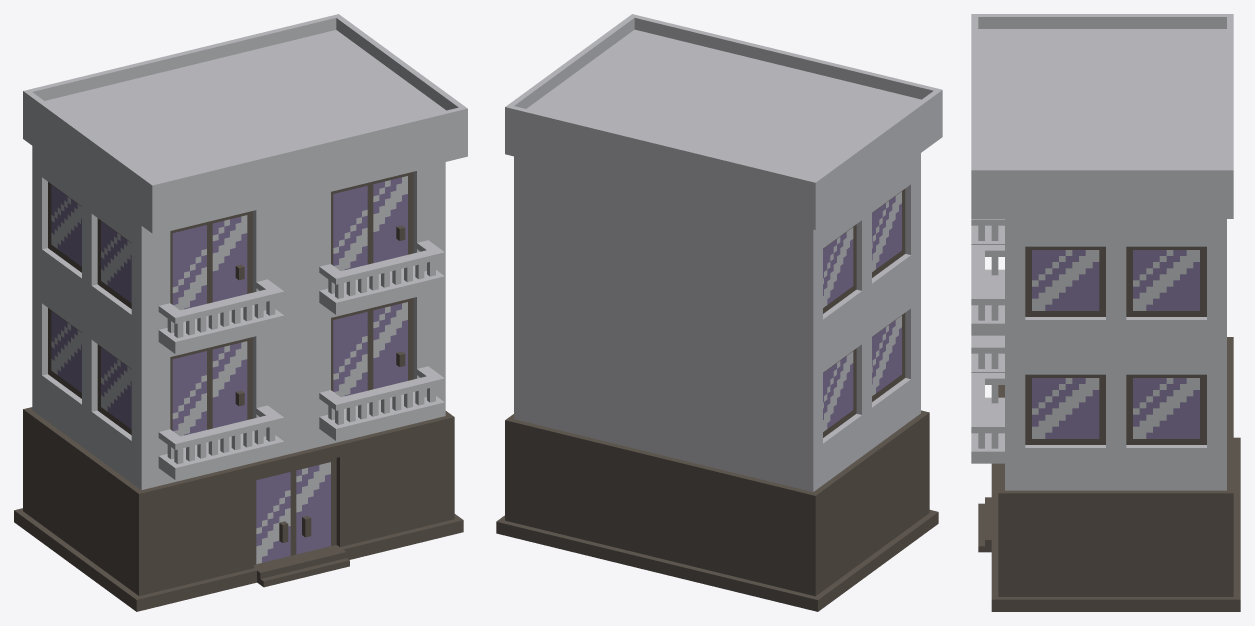
The model's file is apartment_a.obj.
3 views of the same model, side by side, from view 1: azimuth 30°, elevation 25°; view 2: azimuth 150°, elevation 25°; view 3: azimuth 270°, elevation 25° (orthographic). The views are drawn at different scales.
Bounding box in the file's own units: 5.7 × 7.2 × 4.
Materials: 1 (1 with a texture image).
